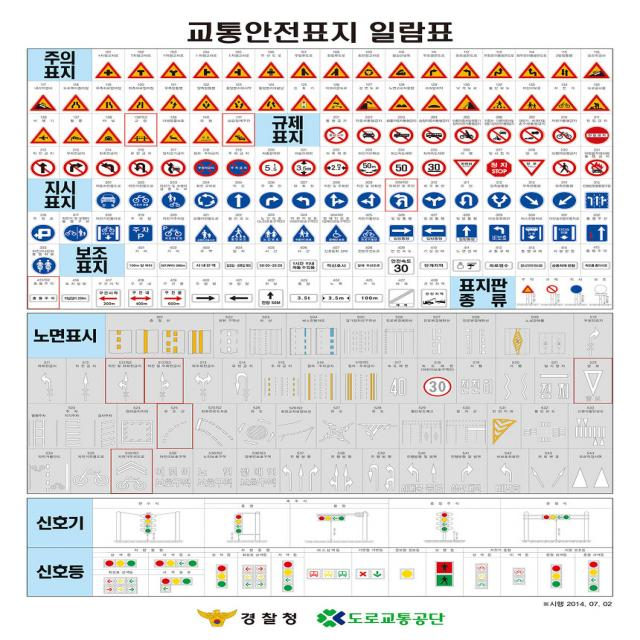Airplanes: (29, 126, 58, 144)
Beginning_of_center_divider: (224, 92, 254, 112)
Bicycles: (550, 93, 580, 112)
Both_ways: (549, 60, 579, 79)
Curve_to_right: (419, 60, 449, 79)
Curving_left: (452, 60, 482, 80)
Danger: (192, 125, 221, 145)
Double_curve_left: (516, 60, 546, 80)
Double_curve_right: (485, 60, 513, 79)
Downward_slope: (29, 93, 57, 112)
Drive_both_sides: (191, 92, 221, 112)
Drive_to_the_right: (158, 93, 188, 112)
End_of_center_divider_side: (257, 93, 286, 112)
Falling_rocks: (452, 92, 481, 111)
Four-way_intersection: (94, 61, 123, 79)
Indication_Bicycle_crossing: (356, 223, 382, 243)
Indication_Bicycle_parking_area: (160, 223, 187, 243)
Indication_Bicycles_only: (127, 191, 155, 210)
Indication_Bus_only_lane: (518, 223, 546, 243)
Indication_Children_Protection: (290, 224, 317, 242)
Indication_Drive_both_the_right: (485, 191, 513, 209)
Indication_Drive_on_the_left: (550, 190, 578, 210)
Indication_Drive_on_the_right: (518, 190, 546, 210)
Indication_Go_straight_or_left_turn: (224, 190, 253, 210), (355, 191, 382, 209)
Indication_Go_straight_or_right_turn: (322, 190, 350, 210)
Indication_HOV_Lane: (550, 223, 578, 242)
Indication_Left_or_right_turn: (421, 192, 448, 210)
Indication_Make_left_turn: (290, 191, 318, 210)
Indication_Make_right_turn: (258, 191, 285, 209)
Indication_One_way_left: (420, 223, 448, 243)
Indication_One_way_right: (387, 224, 415, 242)
Indication_One_way_straight: (455, 224, 479, 242)
Indication_Parking_area: (127, 223, 154, 243)
Indication_Pedestrian_crossing: (226, 222, 252, 243)
Indication_Pedestrian_only: (192, 223, 220, 243)
Indication_Priority: (585, 224, 610, 242)
Indication_Proceeding_direction: (582, 190, 610, 210)
Indication_Roundabout_straight: (192, 191, 220, 210)
Indication_Unprotected_left_turn: (486, 223, 511, 242)
Indication_Vehicles_only: (94, 190, 122, 210)
Indication_for_bicycles_and_pedestrians: (160, 192, 187, 210)
Indication_u-turn_ways: (453, 191, 480, 209)
Merge_left: (322, 60, 350, 80)
Merge_right: (290, 60, 318, 79)
Narrow_road_ahead: (61, 92, 91, 112)
Pedestrian_crossing: (484, 92, 515, 112)
Prionity: (257, 61, 286, 80)
Railroad_crossing: (387, 60, 416, 80)
Right_lane_is_merged: (125, 94, 156, 112), (94, 93, 123, 112)
Riverside_drive: (354, 93, 384, 112)
Road_construction: (582, 92, 611, 112)
Rough_road_condition: (387, 93, 417, 112)
Roundabout: (354, 60, 383, 79)
Safety_for_children: (517, 93, 547, 112)
Safety_for_wild_animals: (158, 125, 188, 145)
Slippery_road: (323, 93, 351, 112)
Speed_bump_ahead: (419, 93, 449, 112)
T-shaped_intersection: (127, 60, 155, 80)
Traffic_signal: (289, 93, 318, 112)
Tree-way_intersection_left: (225, 61, 252, 79)
Tree-way_intersection_right: (192, 60, 220, 80)
Tunnel: (94, 125, 123, 145)
Upward_slope: (582, 60, 612, 80)
Wind: (61, 125, 91, 145)
Y-shaped_intersection: (159, 61, 188, 79)
regulatory_Distance_between_the_vehicles: (355, 158, 383, 178)
regulatory_Drive_slowly: (452, 158, 482, 178)
regulatory_Maximum_Speed_limit: (387, 158, 415, 177)
regulatory_Minimum_speed_limit: (420, 158, 448, 178)
regulatory_No_bicycles_allowed: (550, 124, 578, 146)
regulatory_No_buses_allowed: (420, 125, 448, 145)
regulatory_No_entrance: (583, 125, 611, 145)
regulatory_No_left_turn: (94, 157, 123, 178)
regulatory_No_parking: (225, 158, 252, 177)
regulatory_No_passage: (322, 124, 351, 145)
regulatory_No_passing: (160, 158, 188, 178)
regulatory_No_pedestrian_walking: (550, 158, 578, 178)
regulatory_No_right_turn: (62, 157, 90, 178)
regulatory_No_stop_or_parking: (192, 158, 220, 178)
regulatory_No_straight_drive: (29, 157, 57, 178)
regulatory_No_tractors-Cultivator: (518, 126, 546, 144)
regulatory_No_trucks_allowed: (387, 126, 415, 144)
regulatory_No_two-wheelers-prime_movers-bicycles_allowed: (453, 126, 480, 144)
regulatory_No_u-turn: (126, 157, 156, 178)
regulatory_No_vehicles-two-wheelers-prime_movers-bicycles_allowed: (484, 126, 514, 144)
regulatory_No_vehicles_allowed: (355, 125, 383, 145)
regulatory_No_vehicles_with_hazardous_object: (583, 159, 611, 177)
regulatory_Stop: (485, 158, 514, 178)
regulatory_Vehicle_height_limit: (290, 157, 318, 178)
regulatory_Vehicle_weight_limit: (257, 158, 286, 178)
regulatory_Vehicle_width_limit: (322, 158, 351, 178)
regulatory_Yield: (517, 158, 547, 178)
